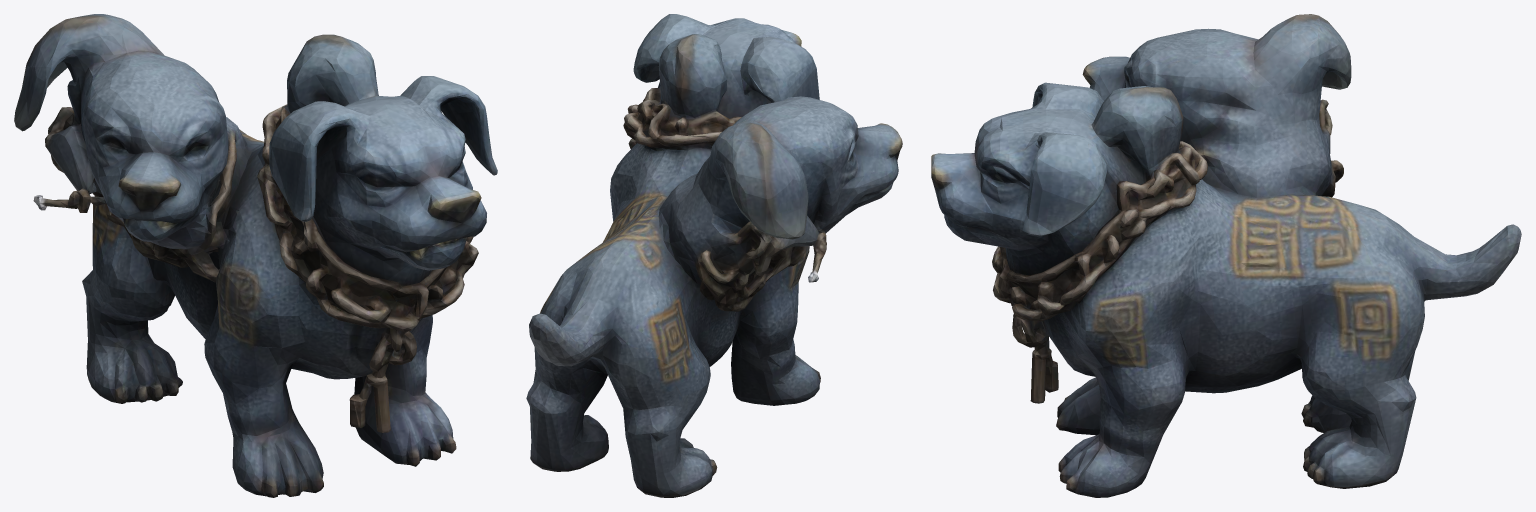
Rendered from vaultHound.glb.
3 renders of one model, left to right at view 1: azimuth 30°, elevation 25°; view 2: azimuth 150°, elevation 25°; view 3: azimuth 270°, elevation 25°, orthographic. The views are drawn at different scales.
Parts seen in each view (by area): view 1: world; view 2: world; view 3: world.
Boxes of the visible parts, box(x1,y1,x2,y2) form: world: box(14, 14, 497, 497); world: box(526, 14, 902, 497); world: box(931, 14, 1521, 497).
Bounding box in the file's own units: 0.5968 × 0.7007 × 0.999.
1 material, 1 textured.
